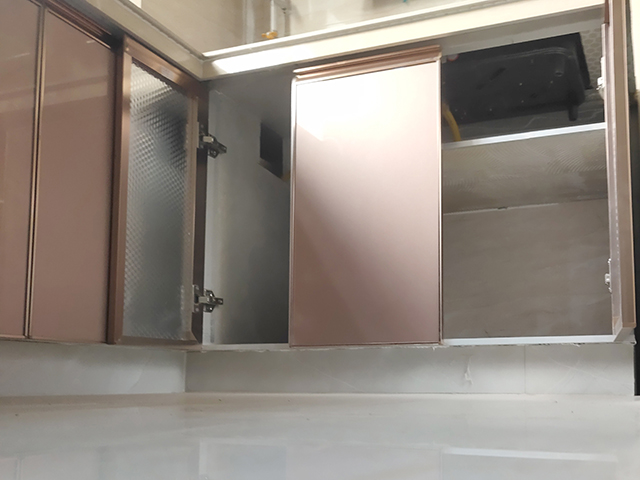cabinet: (207, 3, 640, 398), (1, 1, 200, 392)
